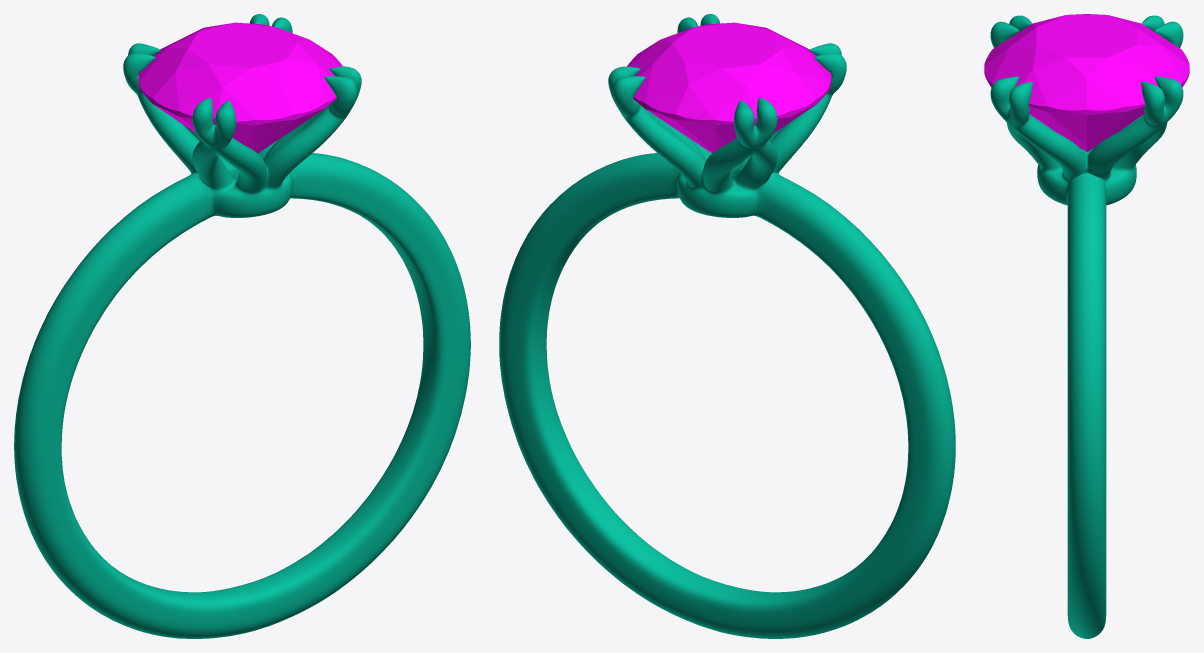
The model's file is BE1389_RD_200ct_RENDER.glb.
The picture shows the model from 3 angles, left to right: view 1: azimuth 30°, elevation 25°; view 2: azimuth 150°, elevation 25°; view 3: azimuth 270°, elevation 25°; orthographic projection.
Visible parts, largest first — view 1: Metal 01, CS_Diamond_Round; view 2: Metal 01, CS_Diamond_Round; view 3: Metal 01, CS_Diamond_Round.
Part boxes in pixels (x1,y1,x2,y2): Metal 01: (14, 14, 470, 638); CS_Diamond_Round: (138, 22, 342, 153); Metal 01: (499, 14, 955, 638); CS_Diamond_Round: (627, 22, 831, 153); Metal 01: (990, 15, 1183, 638); CS_Diamond_Round: (984, 14, 1189, 151).
Bounding box in the file's own units: 20.05 × 24.85 × 8.
